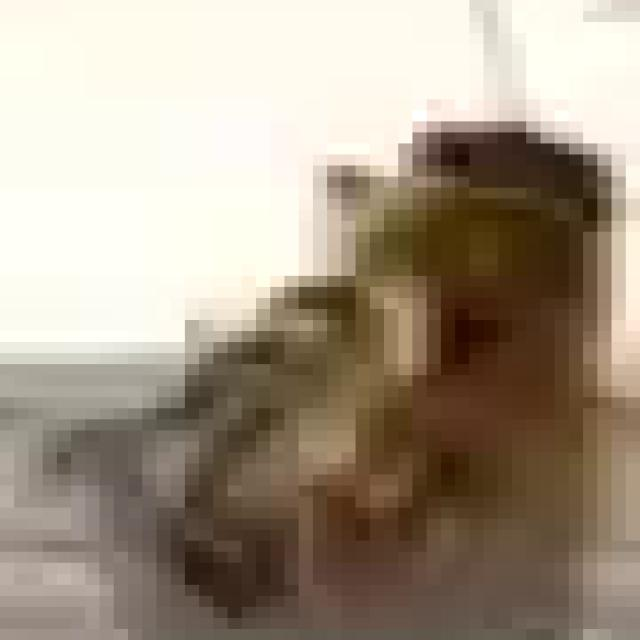honeybee: (150, 86, 624, 604)
